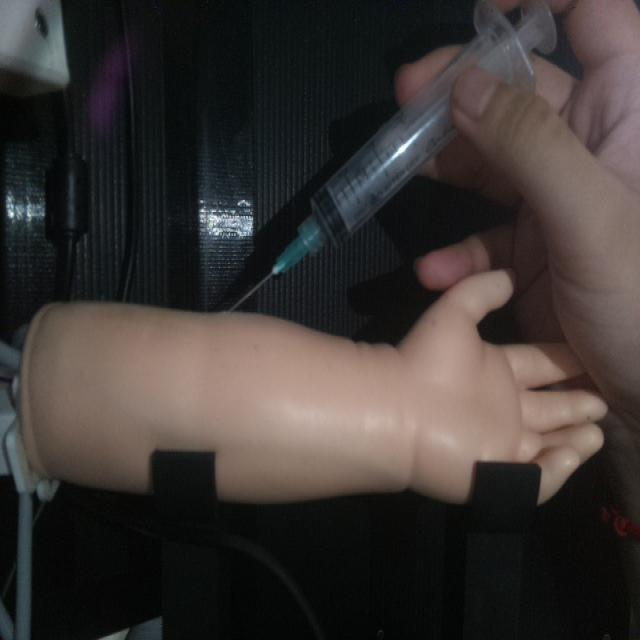Above 30 degrees: (224, 0, 558, 312)
